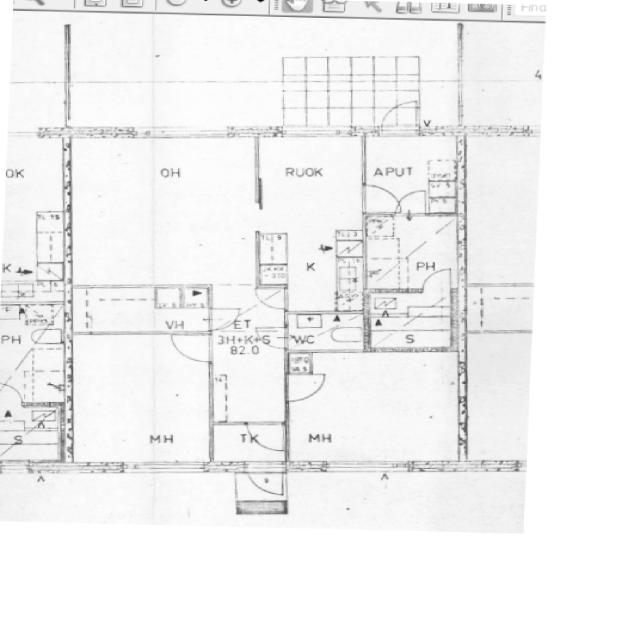door: (242, 462, 289, 500), (167, 331, 216, 365), (376, 100, 421, 136), (283, 372, 332, 404), (246, 421, 290, 455), (361, 182, 402, 216), (252, 285, 292, 313), (419, 267, 455, 295), (394, 188, 429, 216), (255, 326, 291, 352), (205, 306, 241, 332), (1, 382, 24, 406)
window: (317, 459, 411, 477), (122, 460, 207, 476), (153, 128, 232, 141), (281, 129, 353, 140), (80, 461, 124, 476), (456, 371, 471, 401)
zone: (67, 130, 259, 286), (287, 350, 464, 469), (65, 329, 213, 468), (257, 132, 365, 306), (364, 134, 462, 213), (366, 214, 462, 290), (0, 306, 70, 406), (69, 286, 211, 334), (367, 291, 454, 352), (1, 404, 64, 466), (284, 312, 366, 353)
